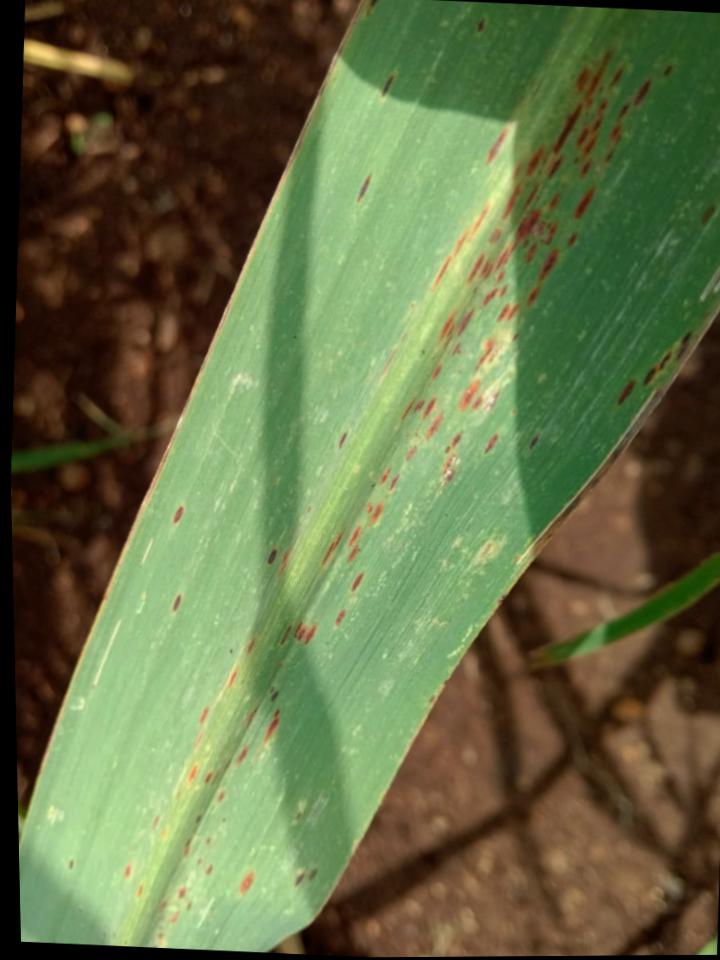Rust: (553, 52, 611, 154), (480, 210, 556, 279), (431, 205, 489, 291), (575, 100, 607, 159), (527, 248, 559, 306), (643, 351, 673, 387), (486, 128, 508, 164), (501, 184, 522, 219), (574, 186, 595, 219), (321, 534, 343, 565), (458, 379, 479, 410), (525, 143, 544, 176), (440, 311, 456, 347), (263, 709, 279, 744), (475, 340, 492, 372), (522, 183, 540, 213), (442, 452, 459, 482), (424, 414, 444, 439), (468, 254, 484, 283), (675, 332, 691, 361), (634, 78, 651, 105), (458, 308, 474, 336), (355, 174, 370, 203), (497, 303, 519, 322), (618, 380, 634, 406), (547, 154, 564, 178), (444, 433, 463, 454), (368, 501, 382, 527), (608, 66, 624, 88), (483, 392, 498, 415), (239, 870, 254, 893), (576, 69, 590, 93), (279, 551, 291, 576), (401, 399, 414, 420), (483, 289, 499, 306), (247, 706, 259, 728), (608, 126, 621, 146), (579, 159, 592, 179), (701, 205, 714, 225), (484, 434, 497, 454), (423, 399, 436, 419), (487, 346, 501, 364), (348, 526, 360, 547), (382, 75, 393, 97), (616, 104, 631, 120), (294, 622, 306, 642), (280, 625, 291, 645), (352, 573, 363, 592), (304, 625, 315, 644), (488, 229, 501, 245), (366, 0, 377, 18), (547, 194, 559, 210), (173, 506, 183, 525), (236, 747, 247, 764), (566, 231, 576, 249), (380, 469, 391, 485), (512, 161, 521, 180), (335, 611, 345, 628), (168, 910, 180, 924), (528, 435, 538, 451), (390, 475, 400, 491), (338, 432, 347, 449), (229, 669, 238, 686), (199, 708, 208, 725), (173, 593, 181, 612), (406, 446, 416, 461), (294, 873, 304, 888), (431, 365, 441, 379), (348, 547, 358, 561), (184, 839, 192, 856), (413, 401, 425, 412), (203, 864, 214, 876), (188, 766, 196, 782), (472, 397, 482, 409), (196, 729, 204, 744), (247, 639, 254, 655), (152, 815, 160, 829), (605, 151, 614, 163), (500, 284, 509, 296), (268, 551, 276, 564), (124, 864, 131, 878), (478, 18, 485, 31), (203, 837, 212, 847), (452, 344, 460, 355), (308, 870, 316, 881), (178, 888, 186, 899), (217, 791, 224, 803), (271, 691, 278, 702), (497, 271, 503, 283), (195, 814, 203, 823), (664, 66, 671, 76), (138, 884, 143, 898), (68, 859, 74, 870), (160, 902, 166, 913), (366, 505, 372, 515), (157, 933, 164, 941), (295, 812, 302, 820), (205, 773, 211, 782), (195, 858, 202, 865), (512, 334, 518, 342), (220, 817, 226, 825), (187, 901, 191, 912), (269, 686, 274, 694), (573, 157, 578, 164), (473, 287, 478, 294), (229, 649, 233, 654)
